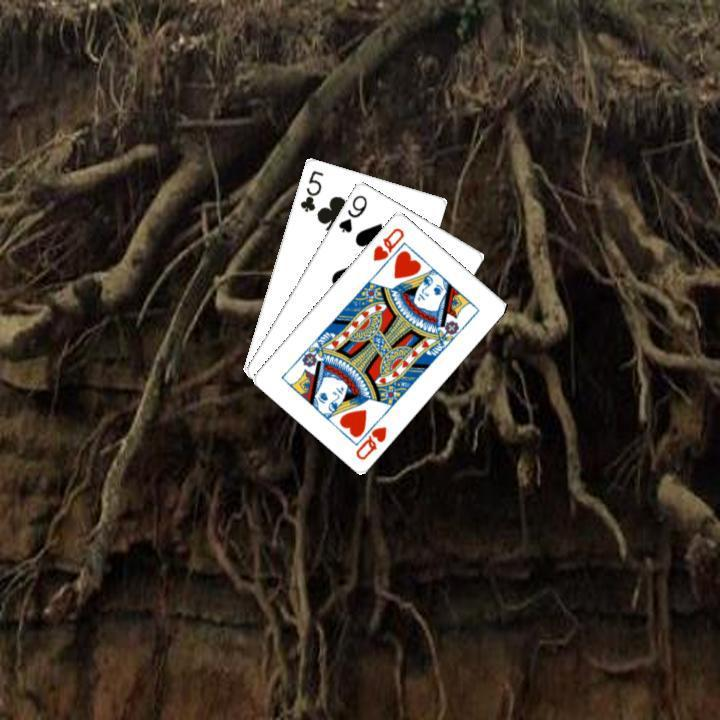5: (295, 165, 325, 213)
9: (334, 190, 369, 234)
Q: (350, 411, 389, 462), (368, 223, 406, 263)
